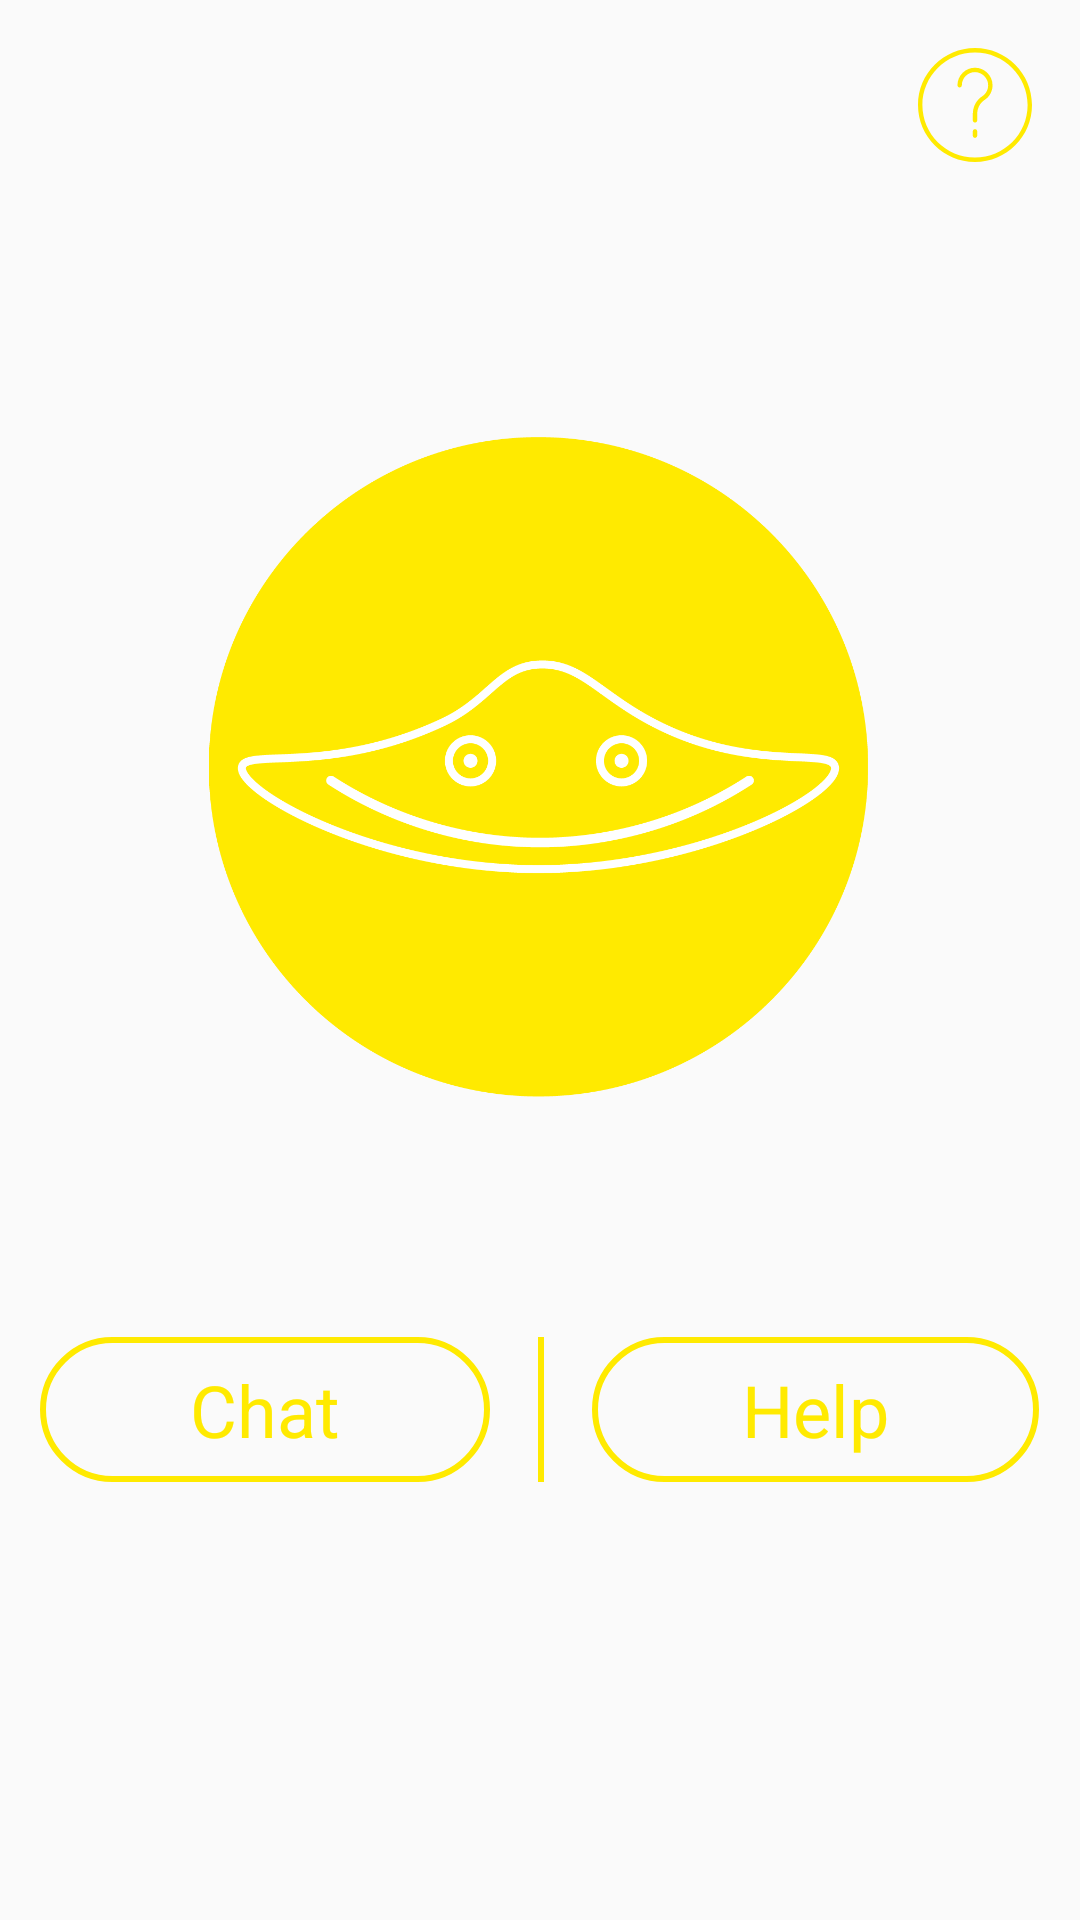

Screen size 1080px×1920px. Icon name, then its box in pixels as Rect(x1, y1, x2, y2):
info: Rect(918, 48, 1032, 162)
